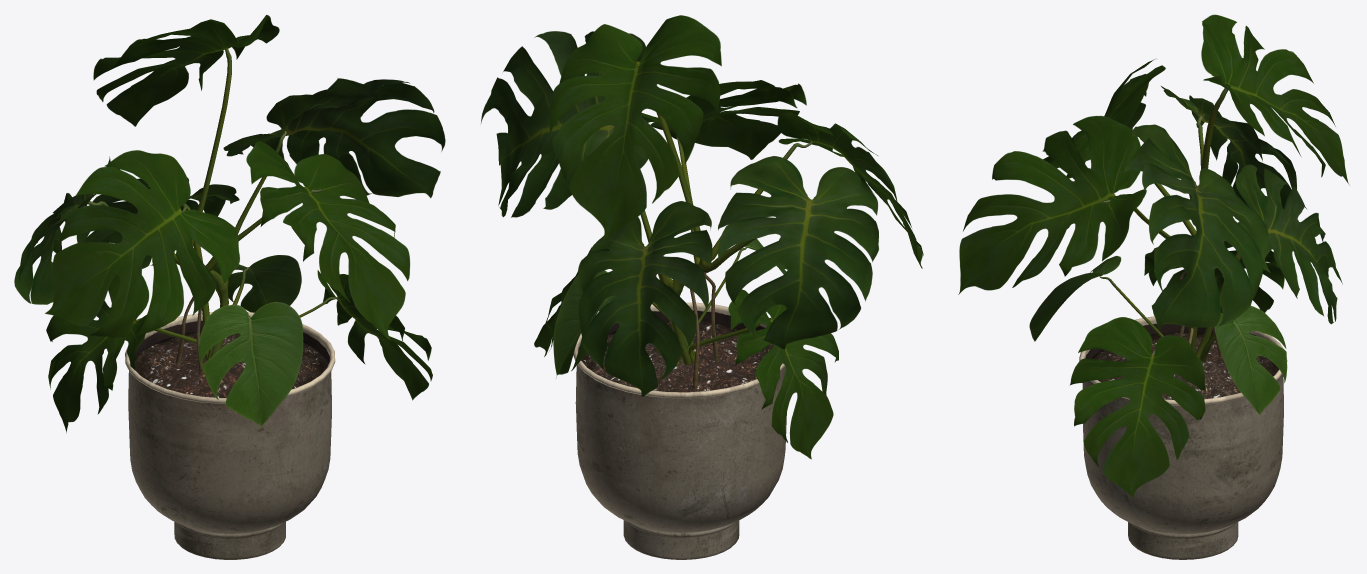
The model's file is plant2-smallfern.glb.
3 renders of one model, left to right at view 1: azimuth 30°, elevation 25°; view 2: azimuth 150°, elevation 25°; view 3: azimuth 270°, elevation 25°, orthographic. The views are drawn at different scales.
Parts seen in each view (by area): view 1: MONSTERA_DELICIOSA, METAL_POT; view 2: MONSTERA_DELICIOSA, METAL_POT; view 3: MONSTERA_DELICIOSA, METAL_POT.
Boxes of the visible parts, left/top/right/bottom form: MONSTERA_DELICIOSA: left=14, top=15, right=445, bottom=432; METAL_POT: left=125, top=312, right=335, bottom=559; MONSTERA_DELICIOSA: left=481, top=15, right=923, bottom=459; METAL_POT: left=573, top=302, right=786, bottom=559; MONSTERA_DELICIOSA: left=958, top=14, right=1349, bottom=498; METAL_POT: left=1079, top=316, right=1287, bottom=559.
Bounding box in the file's own units: 1.34 × 1.59 × 1.13.
2 materials, 2 textured.
